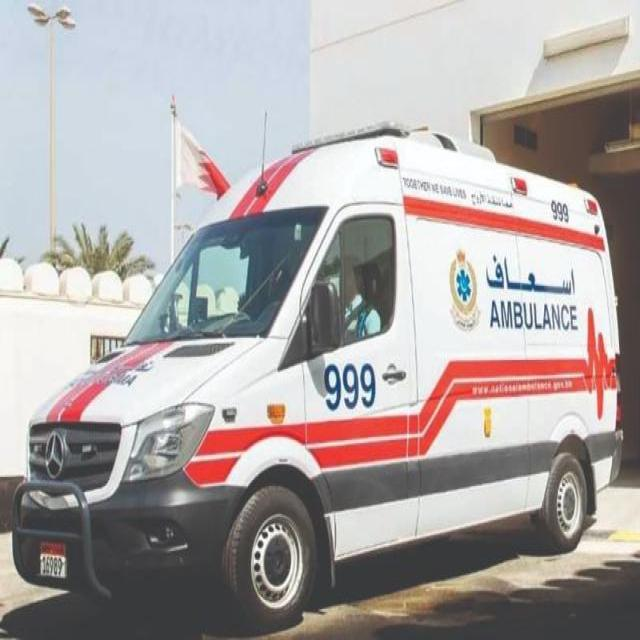emergency-vehicle: (14, 122, 624, 622)
